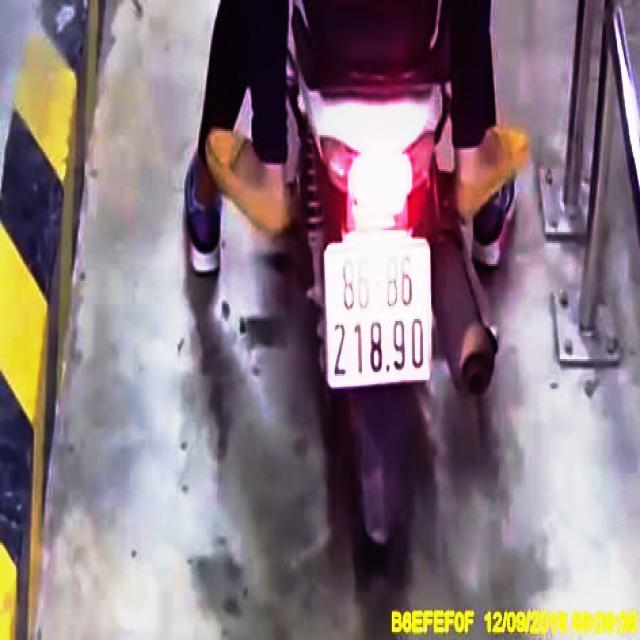license_plate: (326, 245, 434, 392)
